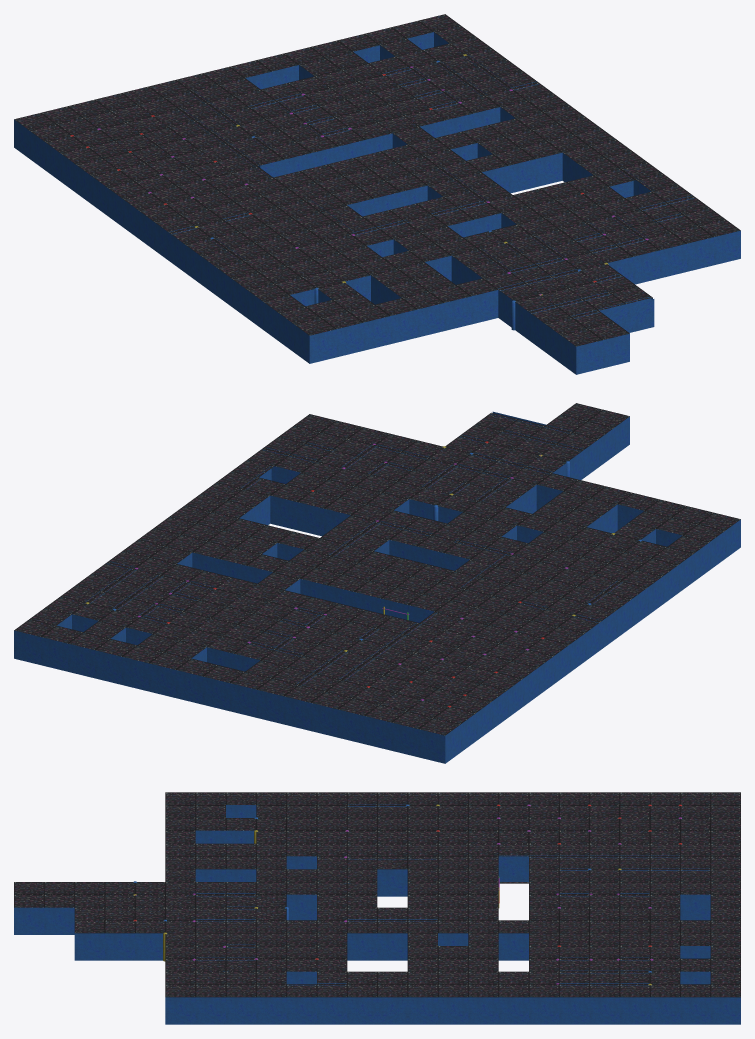
The model's file is Map.glb.
3 views of the same model, one above another, from view 1: azimuth 30°, elevation 25°; view 2: azimuth 150°, elevation 25°; view 3: azimuth 270°, elevation 25° (orthographic). The views are drawn at different scales.
Visible parts, largest first — view 1: Celing, Wall, Props; view 2: Celing, Wall, Props; view 3: Celing, Wall, Props.
Boxes of the visible parts, <box> form: Celing: <box>14,14,740,346</box>; Wall: <box>14,32,740,374</box>; Props: <box>55,43,648,330</box>; Celing: <box>14,403,740,735</box>; Wall: <box>14,411,740,763</box>; Props: <box>85,421,642,709</box>; Celing: <box>14,792,740,997</box>; Wall: <box>14,804,740,1024</box>; Props: <box>89,799,681,985</box>.
Size of what is drawn, in the model's own units: 32 by 2.02 by 48.
11 materials, 11 textured.
